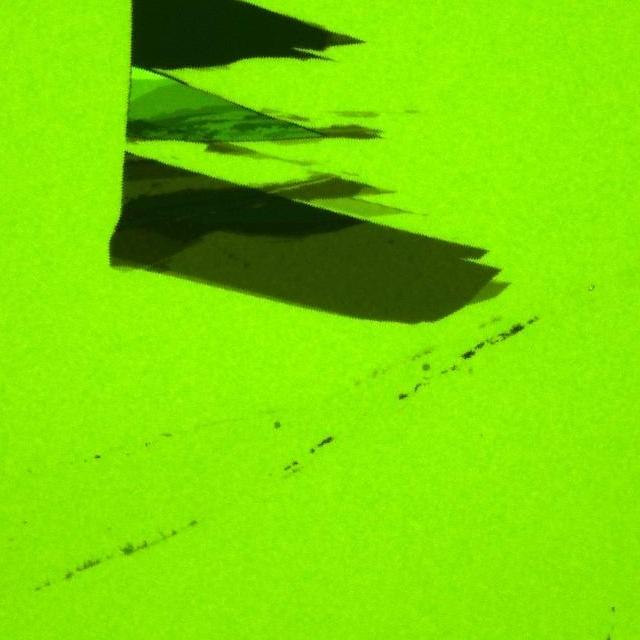monolayer-eWW4: (321, 196, 408, 223)
